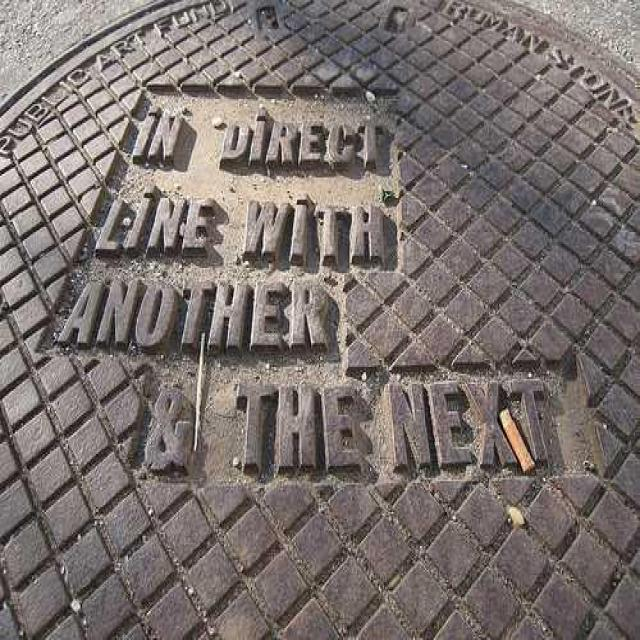manhole: (0, 0, 640, 638)
